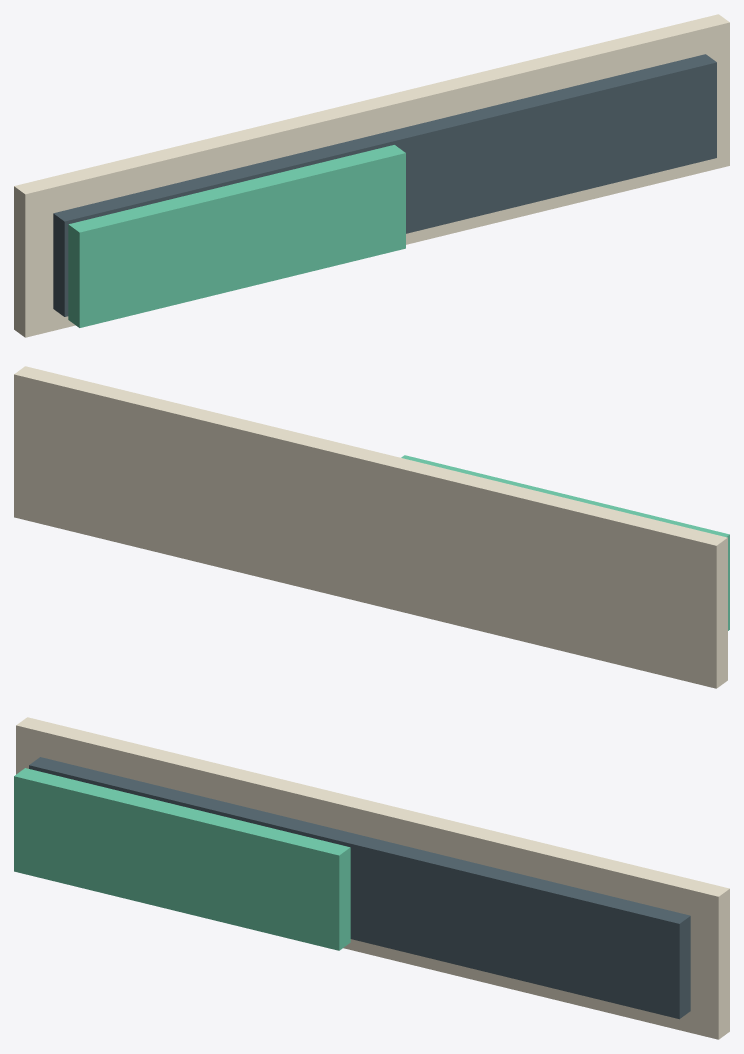
3 views of the same model, one above another, from view 1: azimuth 30°, elevation 25°; view 2: azimuth 150°, elevation 25°; view 3: azimuth 330°, elevation 25° (orthographic).
Visible parts, largest first — view 1: background, border, fill; view 2: border, fill; view 3: background, fill, border.
Part boxes in pixels (x1,y1,x2,y2): background: (53,54,716,316); border: (14,14,729,337); fill: (68,145,405,327); border: (14,366,727,688); fill: (401,455,729,630); background: (29,757,690,1019); fill: (14,768,350,950); border: (16,717,729,1039).
Size of the model in its own units: 1.08 by 0.21 by 0.105.
